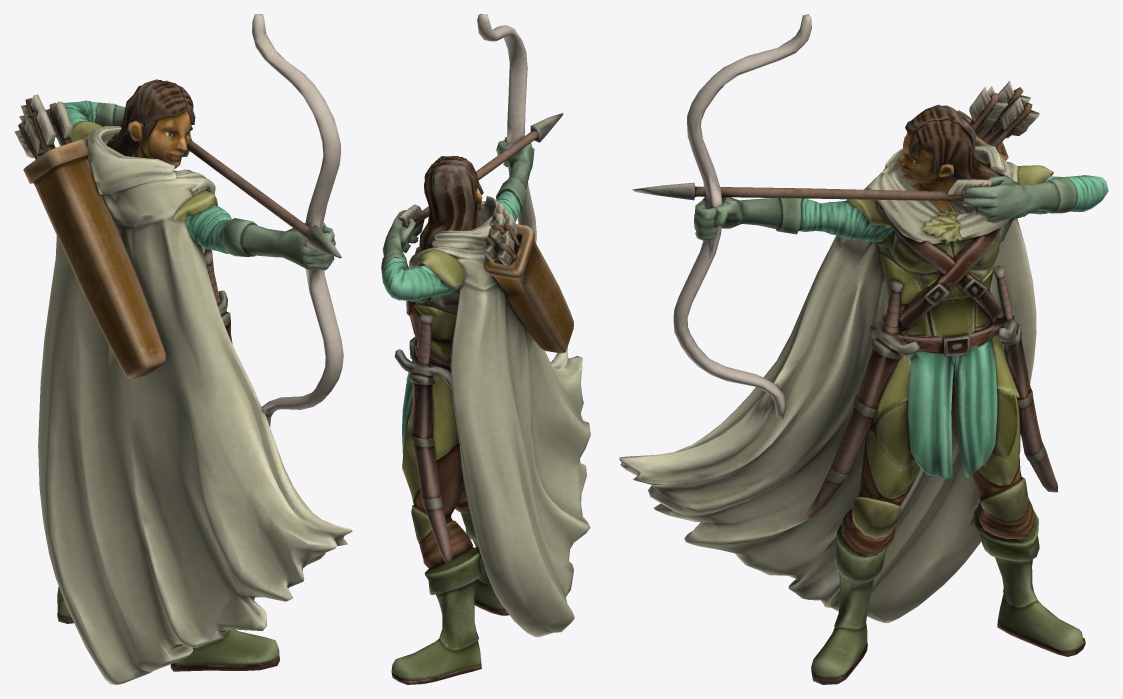
Rendered from MZ4250 - Scout Female 01.glb.
The picture shows the model from 3 angles, left to right: view 1: azimuth 30°, elevation 25°; view 2: azimuth 150°, elevation 25°; view 3: azimuth 270°, elevation 25°; orthographic projection. The views are drawn at different scales.
Visible parts, largest first — view 1: ScoutFemale01; view 2: ScoutFemale01; view 3: ScoutFemale01.
Boxes of the visible parts, x1=… form: ScoutFemale01: x1=14, y1=14, x2=352, y2=684; ScoutFemale01: x1=381, y1=14, x2=590, y2=684; ScoutFemale01: x1=619, y1=14, x2=1108, y2=684.
Bounding box in the file's own units: 0.3454 × 1.3 × 0.8729.
Materials: 1 (1 with a texture image).
